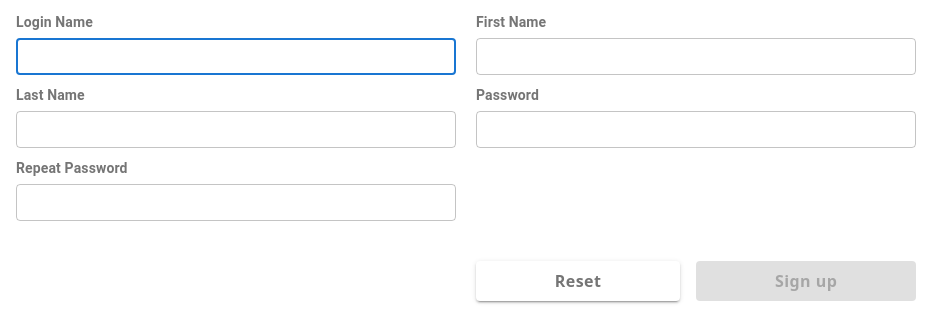
it: coupon list component › reset form
The image size is (933, 328).
Type "uliana@gmail.com" into the field labelled "Login Name" at {"x": 236, "y": 57}, box [16,38,456,75]
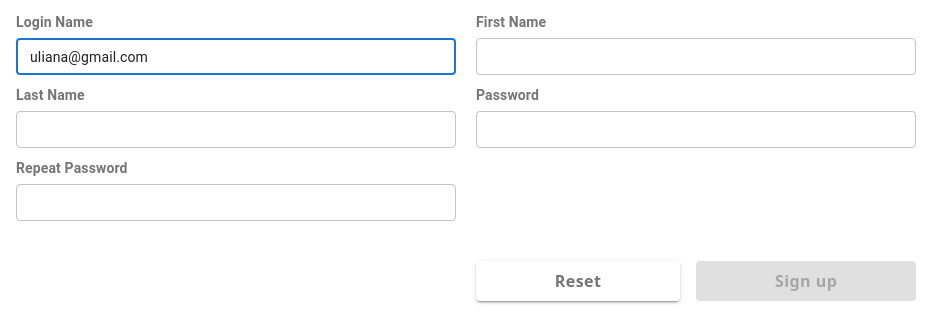
Click the button "Reset" at {"x": 578, "y": 281}, box [476,261,680,301]
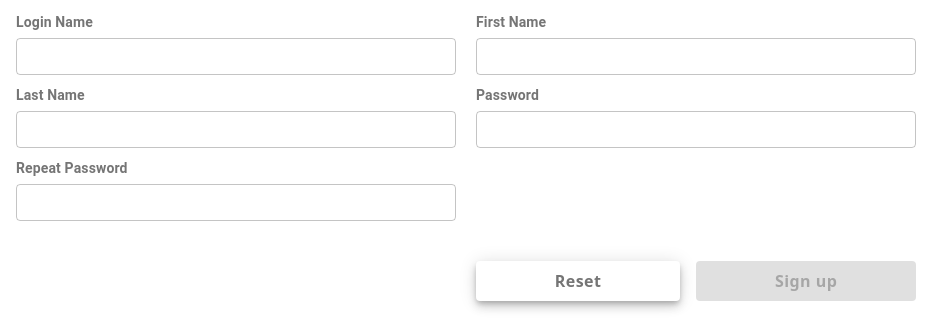
Expected: the field labelled "Login Name" is empty, [16,38,456,75]
